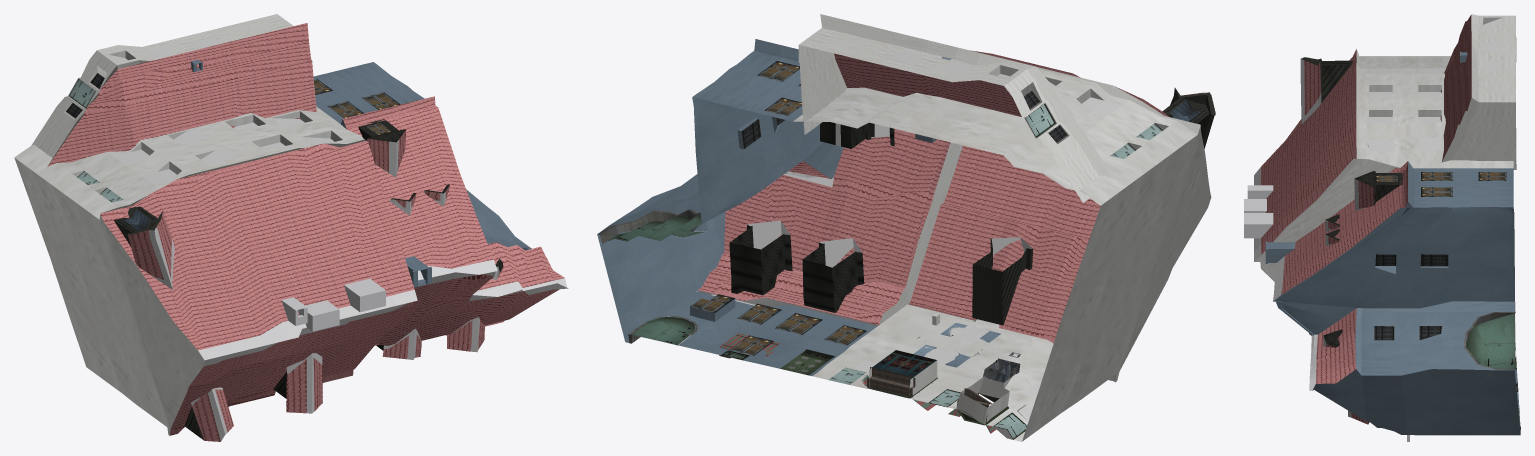
File: Pyhavaimu_15-origo.obj
3 renders of one model, left to right at view 1: azimuth 30°, elevation 25°; view 2: azimuth 150°, elevation 25°; view 3: azimuth 270°, elevation 25°, orthographic. The views are drawn at different scales.
Parts seen in each view (by area): view 1: polySurface219; view 2: polySurface219; view 3: polySurface219.
Boxes of the visible parts, box(x1,y1,x2,y2) form: polySurface219: box(14, 14, 568, 441); polySurface219: box(597, 14, 1215, 441); polySurface219: box(1244, 14, 1520, 441).
Size of the model in its own units: 29.75 by 20.5 by 17.84.
